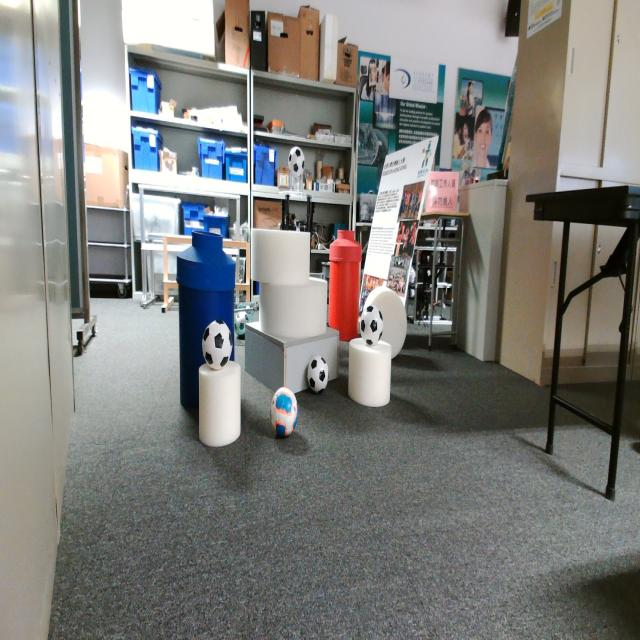ball: (201, 316, 233, 373), (269, 385, 299, 440), (359, 303, 385, 348), (306, 354, 329, 396), (288, 144, 306, 180), (233, 309, 250, 338)
